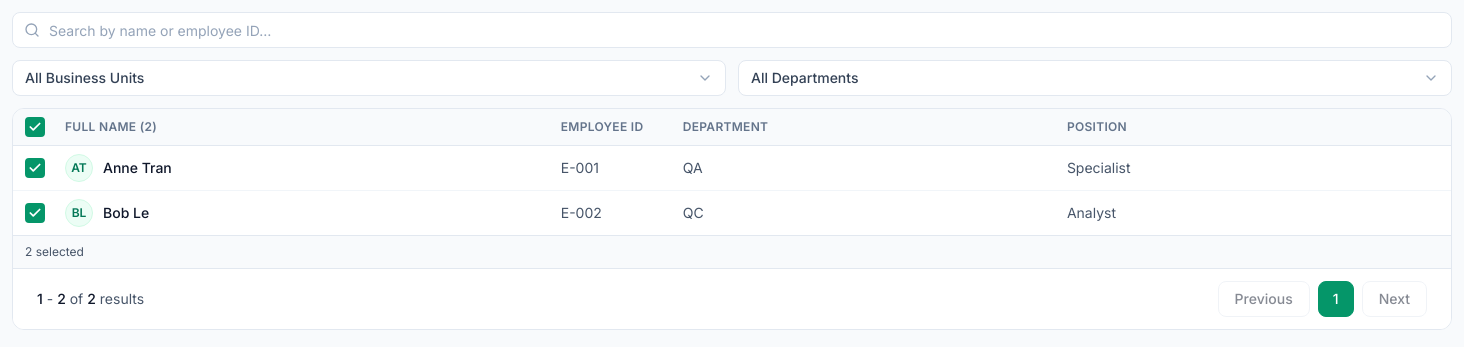
Test: ProposedParticipantsPicker › opens with the people already proposed ticked, and unticking one takes the person off
Check: the text "2 selected" is shown, box [13,235,1451,268]
Click the text "Anne Tran": (137, 168) [103,158,172,178]
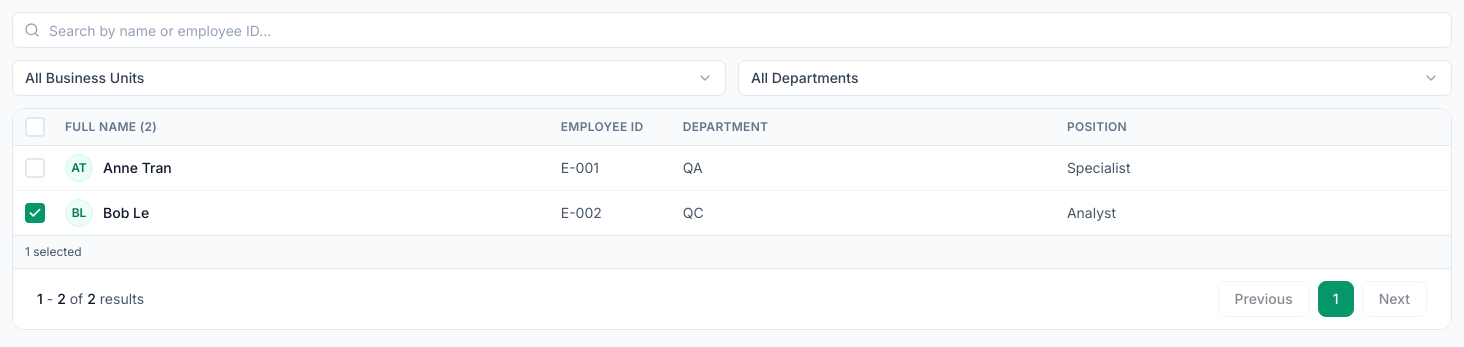
Check: the text "1 selected" is shown, box [13,235,1451,268]
